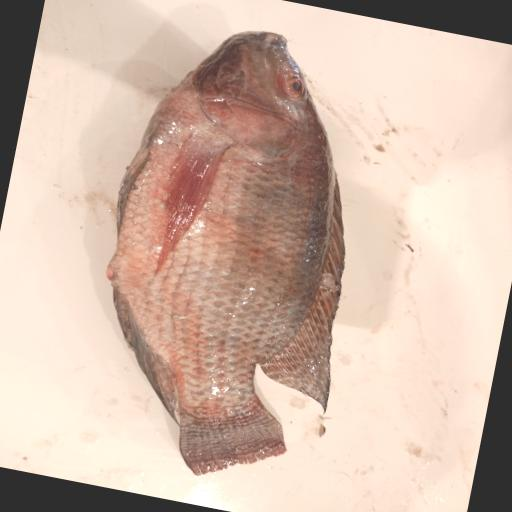Tilapia: (69, 10, 396, 498)
